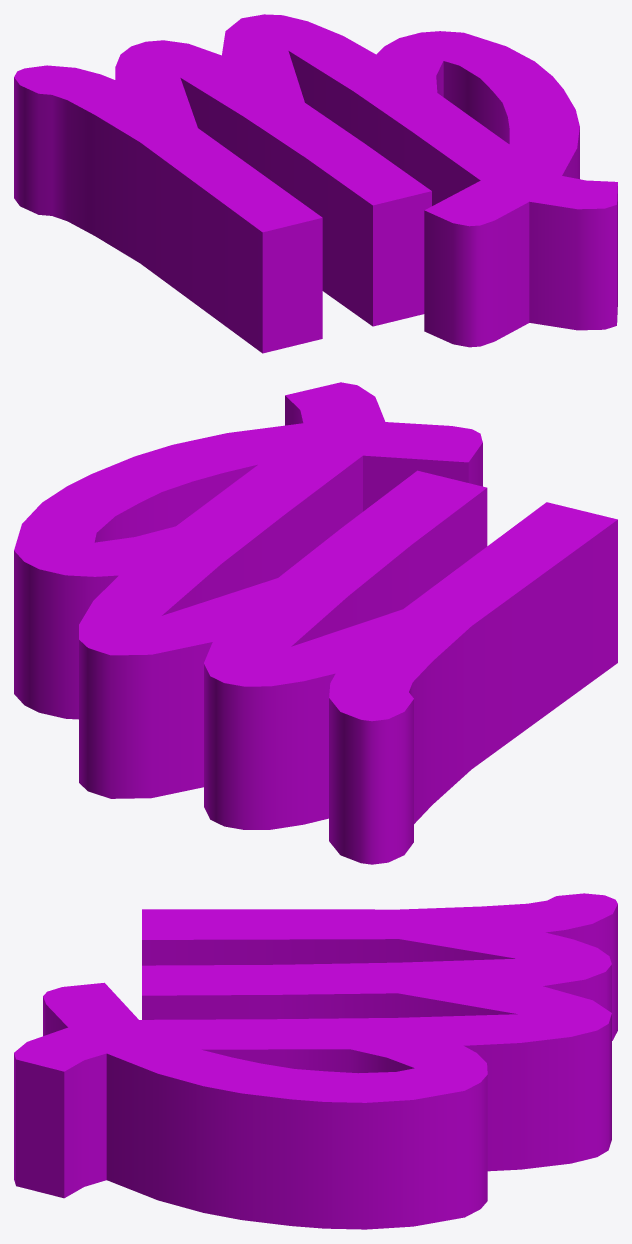
The model's file is Virgo1.fbx.
3 renders of one model, top to bottom at view 1: azimuth 30°, elevation 25°; view 2: azimuth 150°, elevation 25°; view 3: azimuth 270°, elevation 25°, orthographic. The views are drawn at different scales.
Parts seen in each view (by area): view 1: 6.VIRGO; view 2: 6.VIRGO; view 3: 6.VIRGO.
Boxes of the visible parts, left/top/right/bottom form: 6.VIRGO: left=14, top=14, right=617, bottom=353; 6.VIRGO: left=14, top=382, right=617, bottom=864; 6.VIRGO: left=14, top=893, right=617, bottom=1229.
Size of the model in its own units: 126 by 35.51 by 153.
